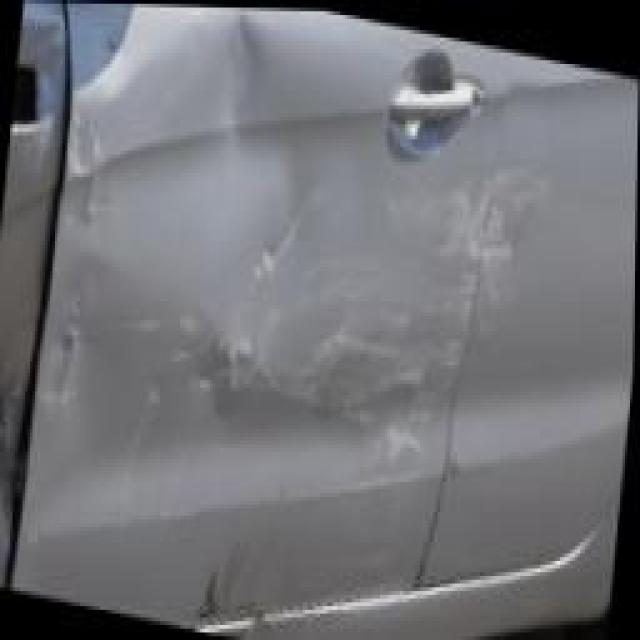Door: (11, 2, 510, 626), (464, 138, 575, 376)
Fender: (0, 356, 26, 533)
